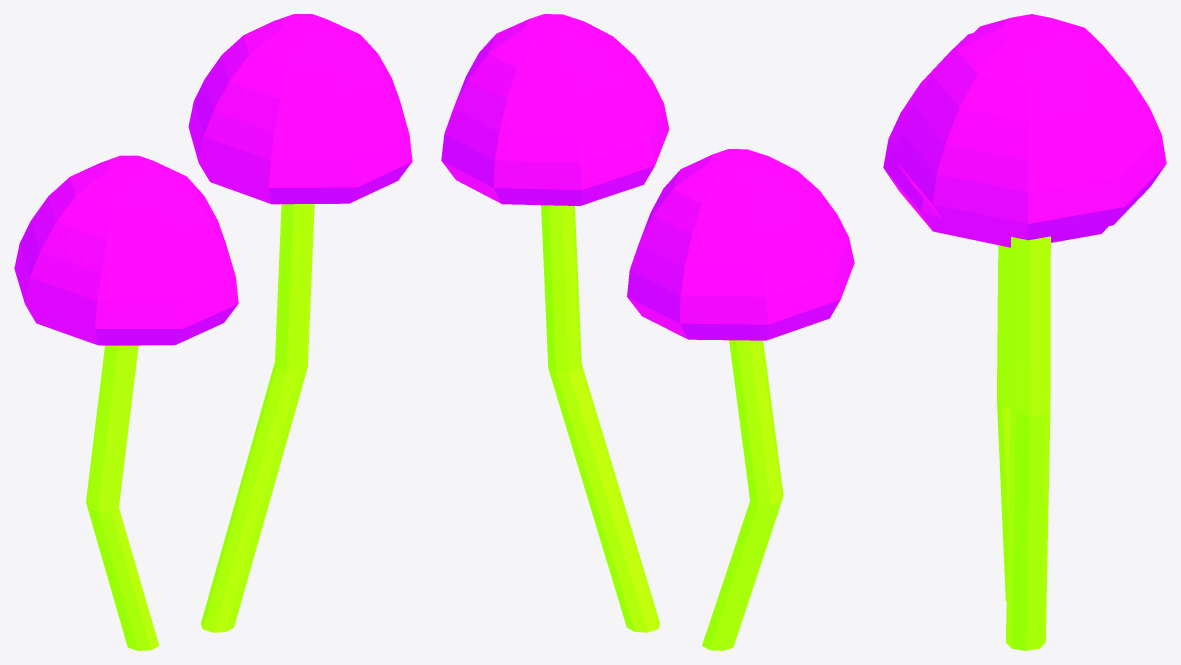
Rendered from shroom1.fbx.
The picture shows the model from 3 angles, left to right: view 1: azimuth 30°, elevation 25°; view 2: azimuth 150°, elevation 25°; view 3: azimuth 270°, elevation 25°; orthographic projection. The views are drawn at different scales.
Visible parts, largest first — view 1: Cylinder.001, Cylinder; view 2: Cylinder.001, Cylinder; view 3: Cylinder.001, Cylinder.
Boxes of the visible parts, x1,y1,x2,y2 form: Cylinder.001: (188, 14, 412, 632); Cylinder: (14, 155, 238, 650); Cylinder.001: (441, 14, 669, 632); Cylinder: (627, 149, 854, 650); Cylinder.001: (895, 14, 1166, 650); Cylinder: (883, 33, 1108, 600).
Bounding box in the file's own units: 646 × 940 × 362.
